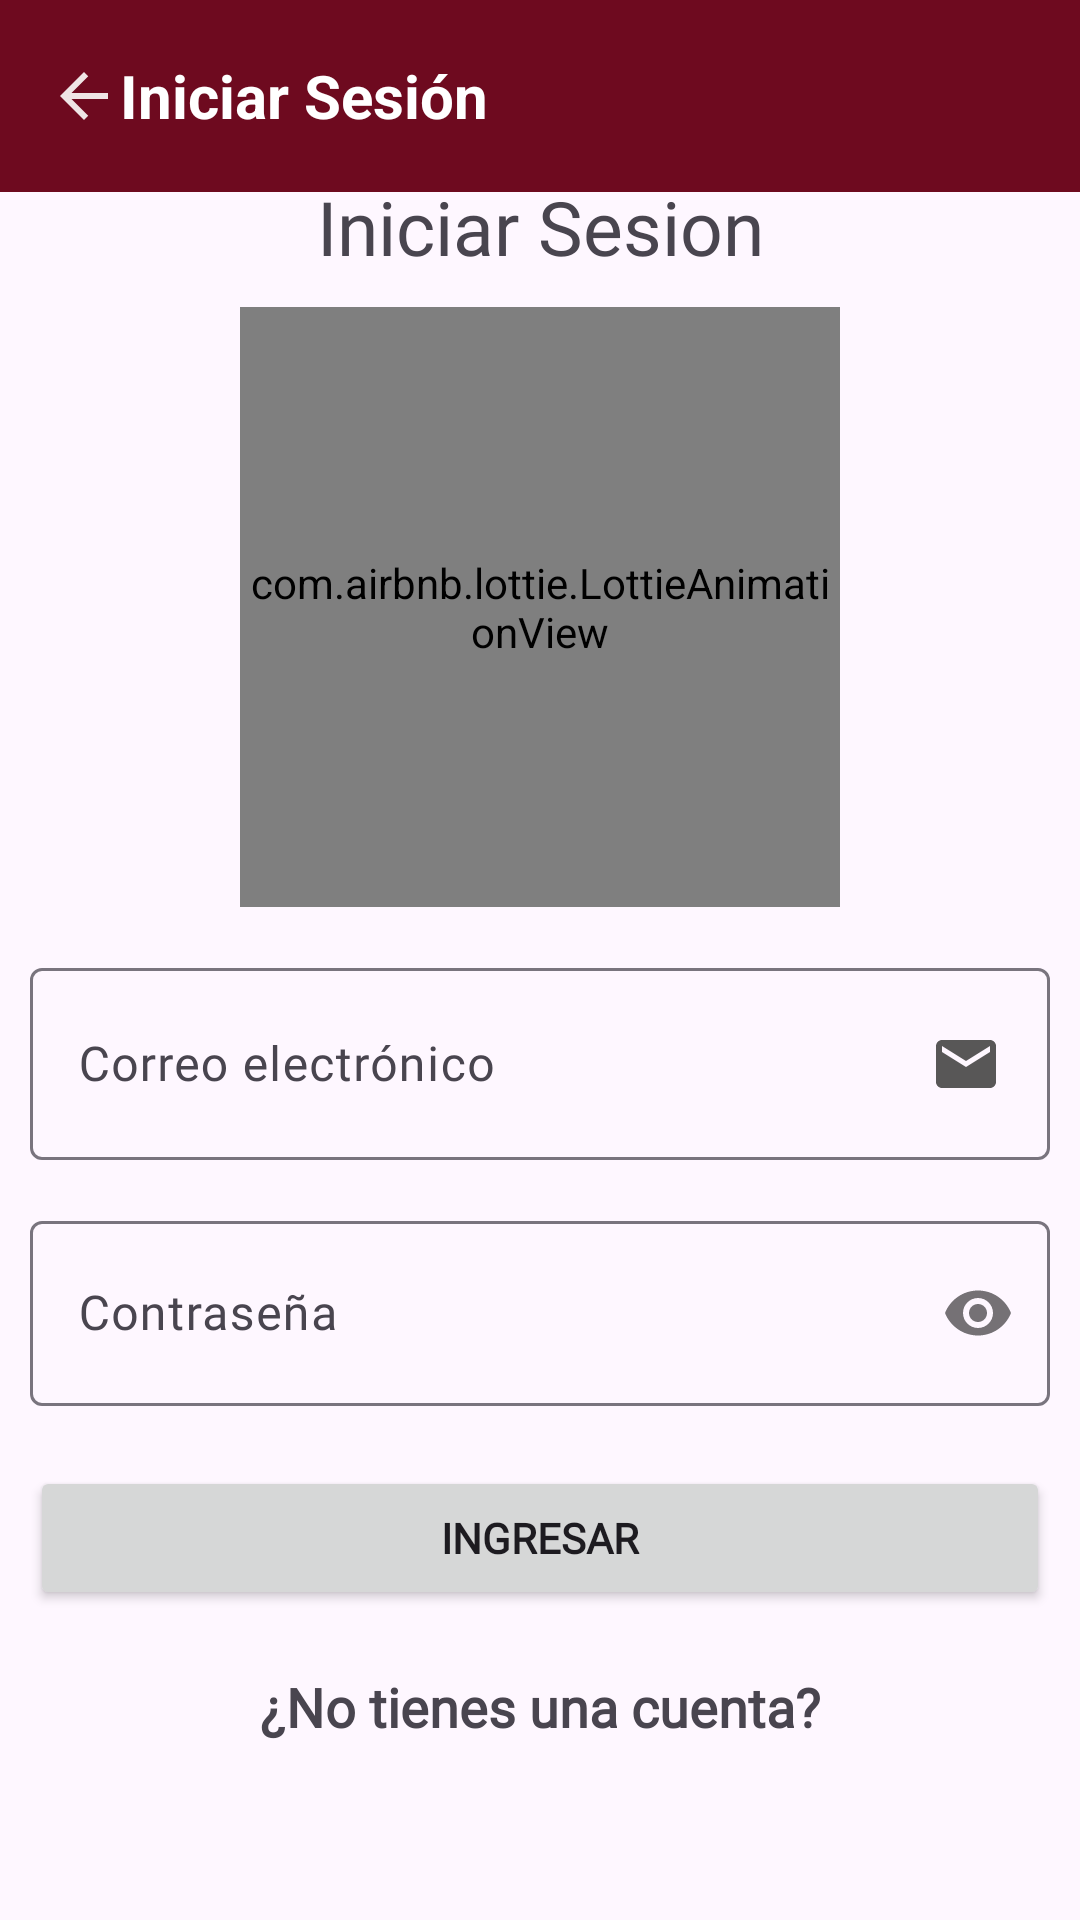

Icon bounding boxes for this 1080 x 1920 phone screenshot, format (x1, y1, x2, y2):
flecha izquierda: (60, 72, 108, 120)
